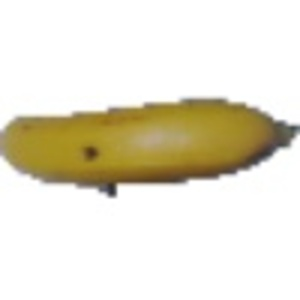banana: (4, 93, 294, 187)
